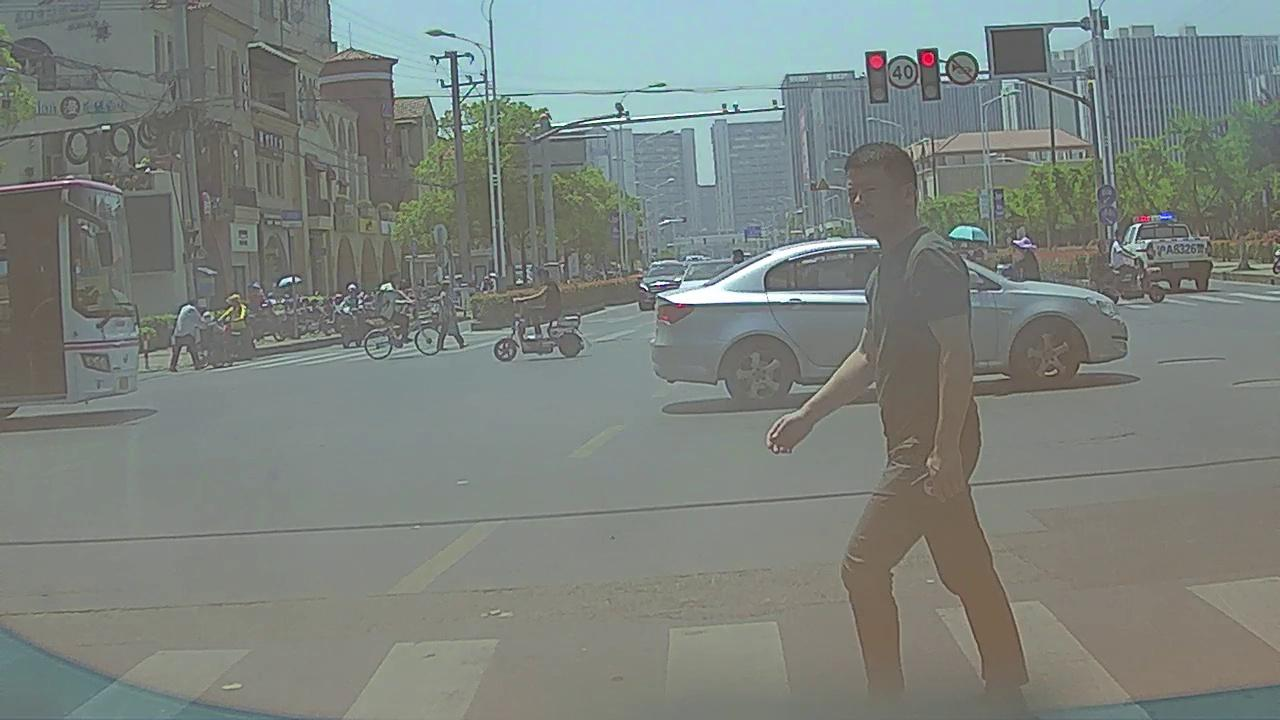traffic_light: (918, 48, 941, 100), (868, 52, 888, 102)
